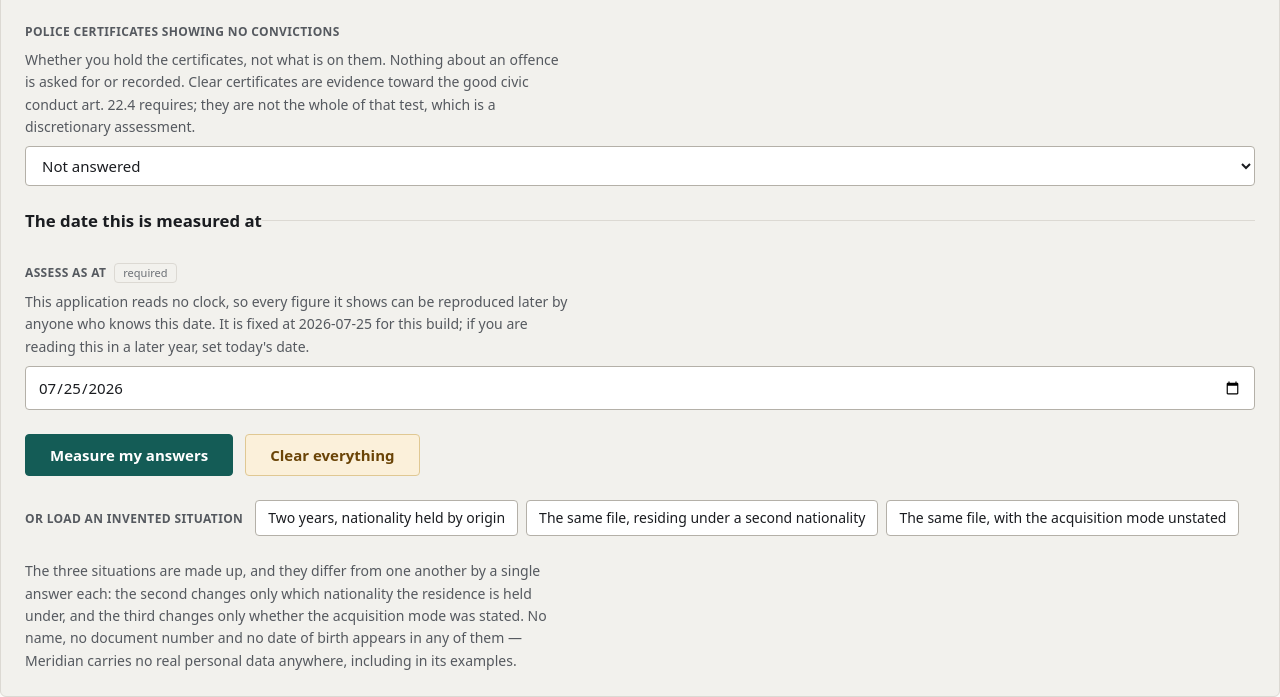
it: the three cases, on screen › never renders "Unmet" for a question the reader simply did not answer
(page scrolled)
Click the button "Measure my answers": (129, 455) [25,434,233,476]
(page scrolled)
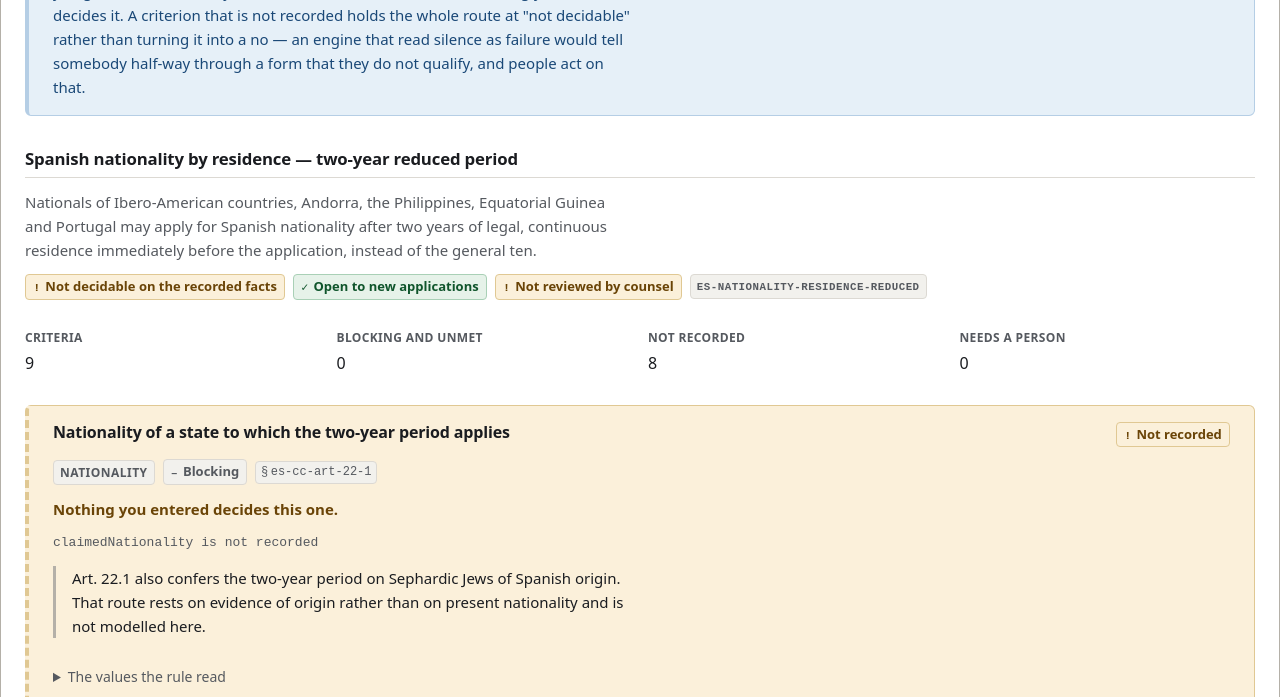
Check: the 1st text "Not recorded" is shown, box [648,329,745,346]
Check: the text "Not decidable on the recorded facts" is shown 2 times
